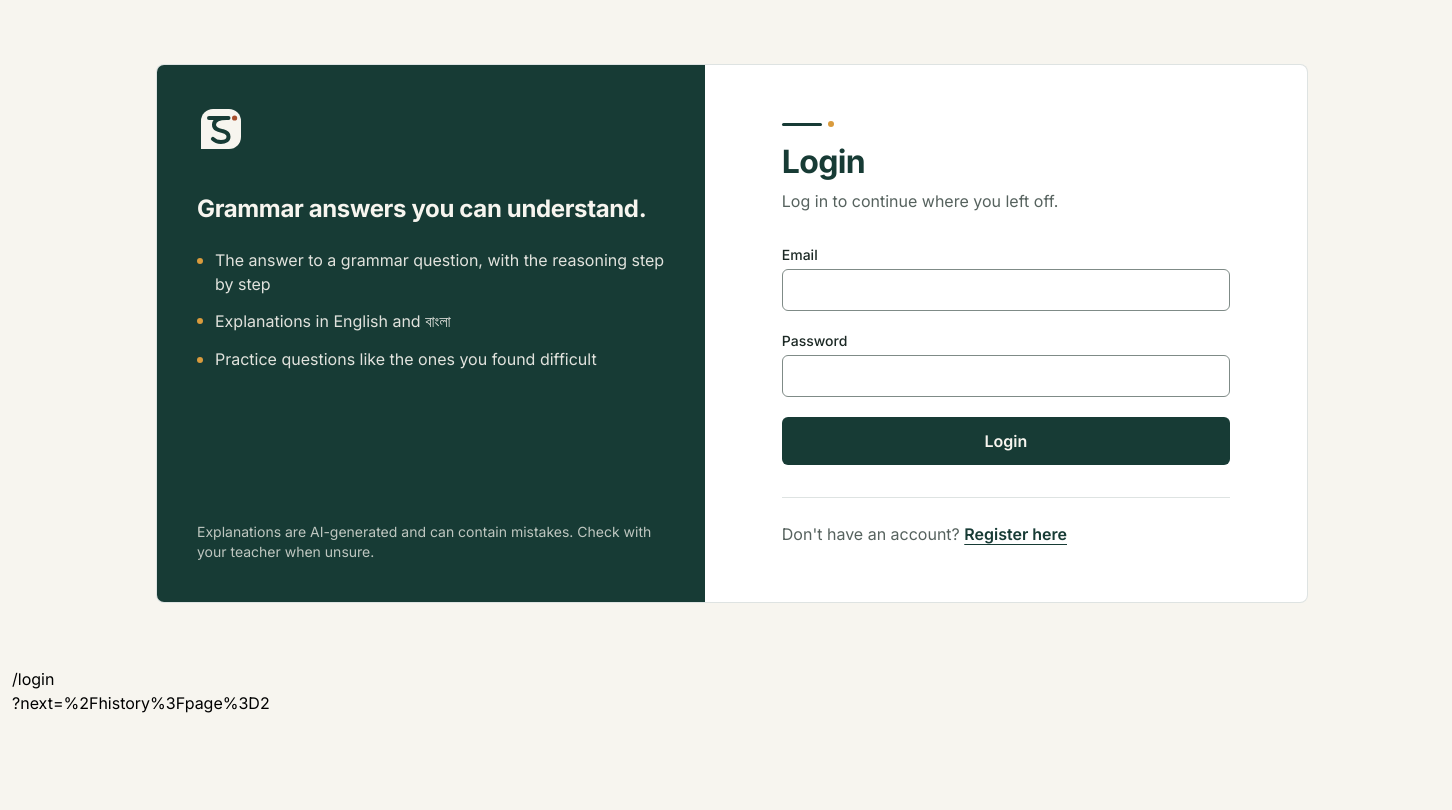
LoginForm › returns to the page that sent the student to login
This screenshot has width=1452, height=810.
Type "student@example.com" into the field labelled "Email". click: {"x": 1006, "y": 290}
box: x1=782 y1=269 x2=1230 y2=311
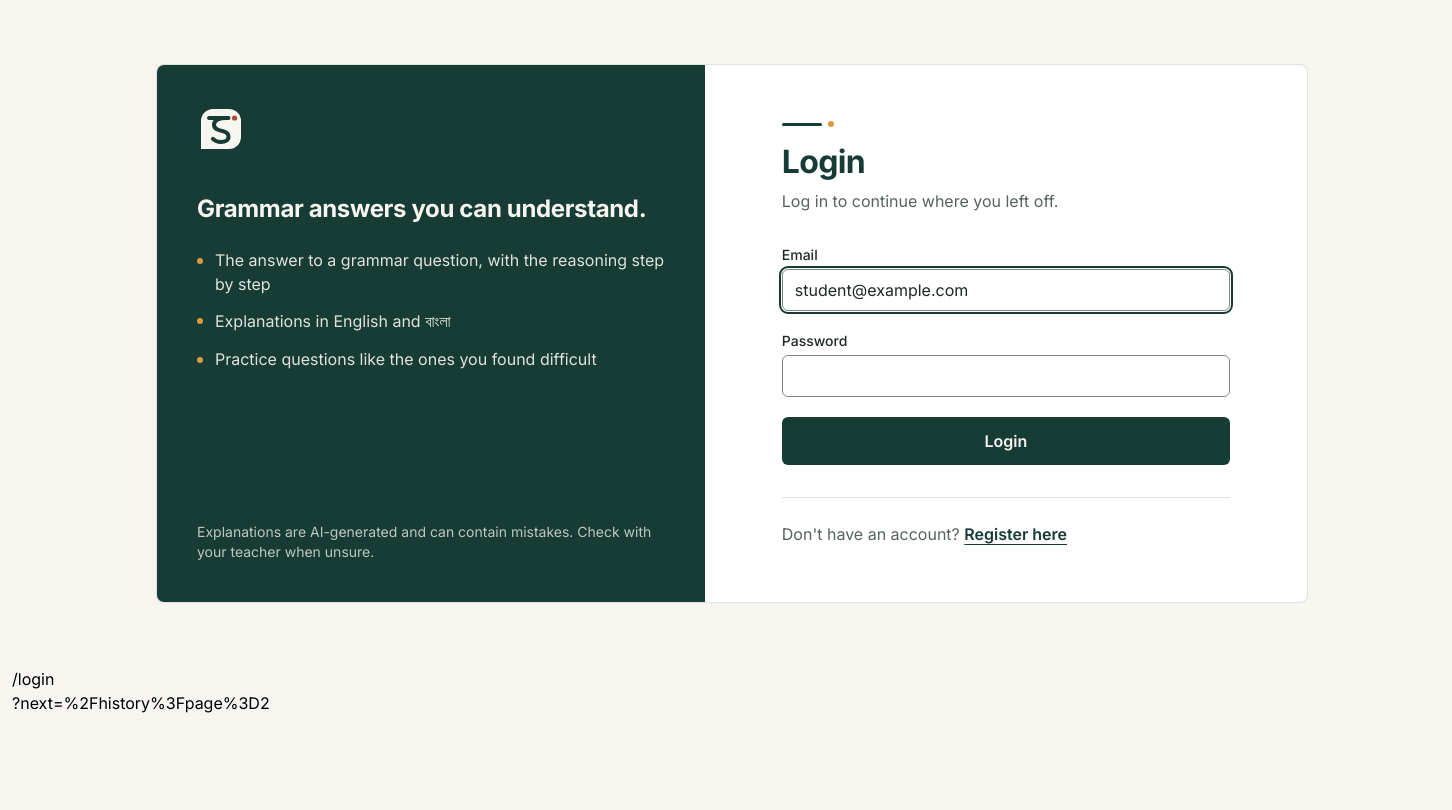
Type "secret123" into the password field labelled "Password". click: {"x": 1006, "y": 376}
box: x1=782 y1=355 x2=1230 y2=397
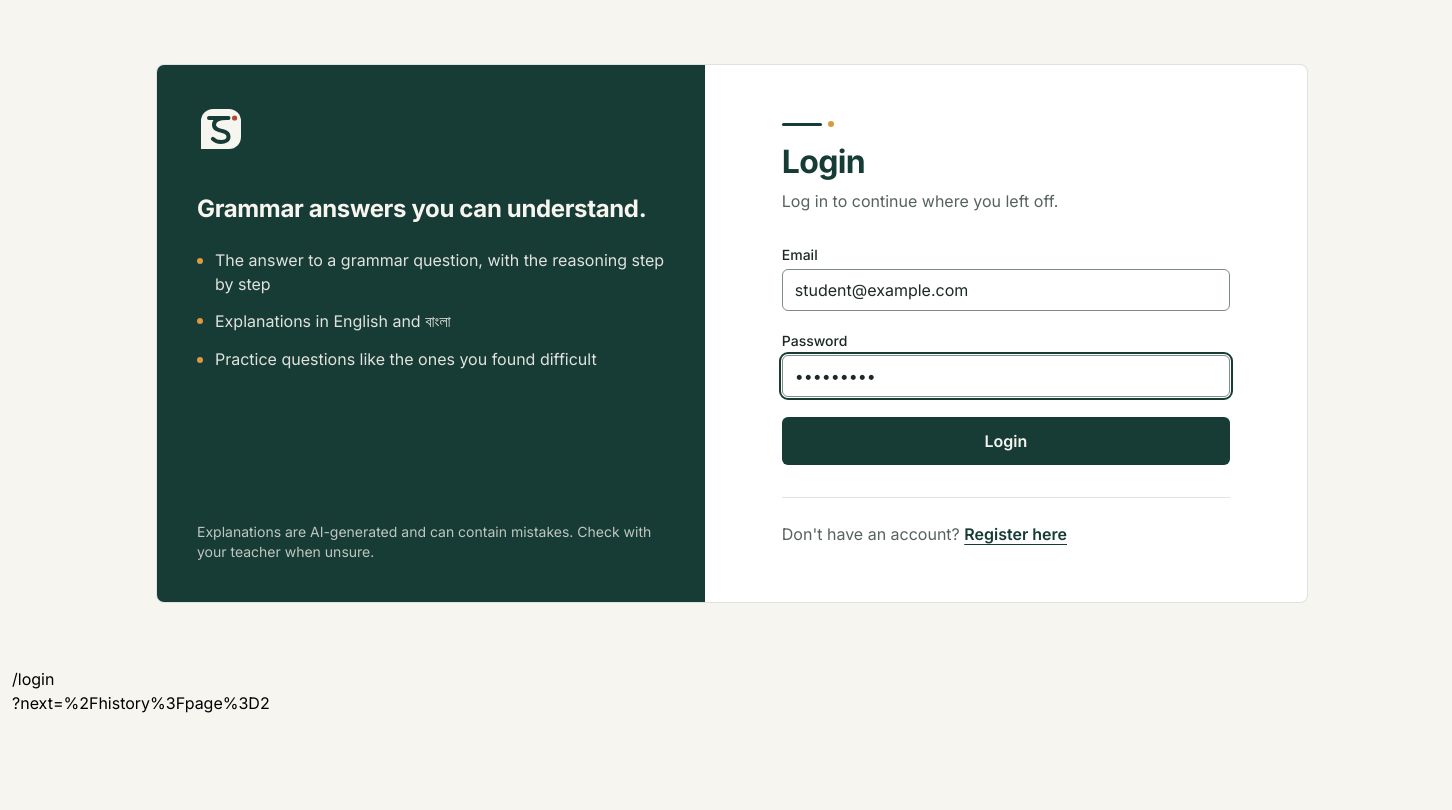
Click the button "Login". click: {"x": 1006, "y": 441}
box: x1=782 y1=417 x2=1230 y2=465
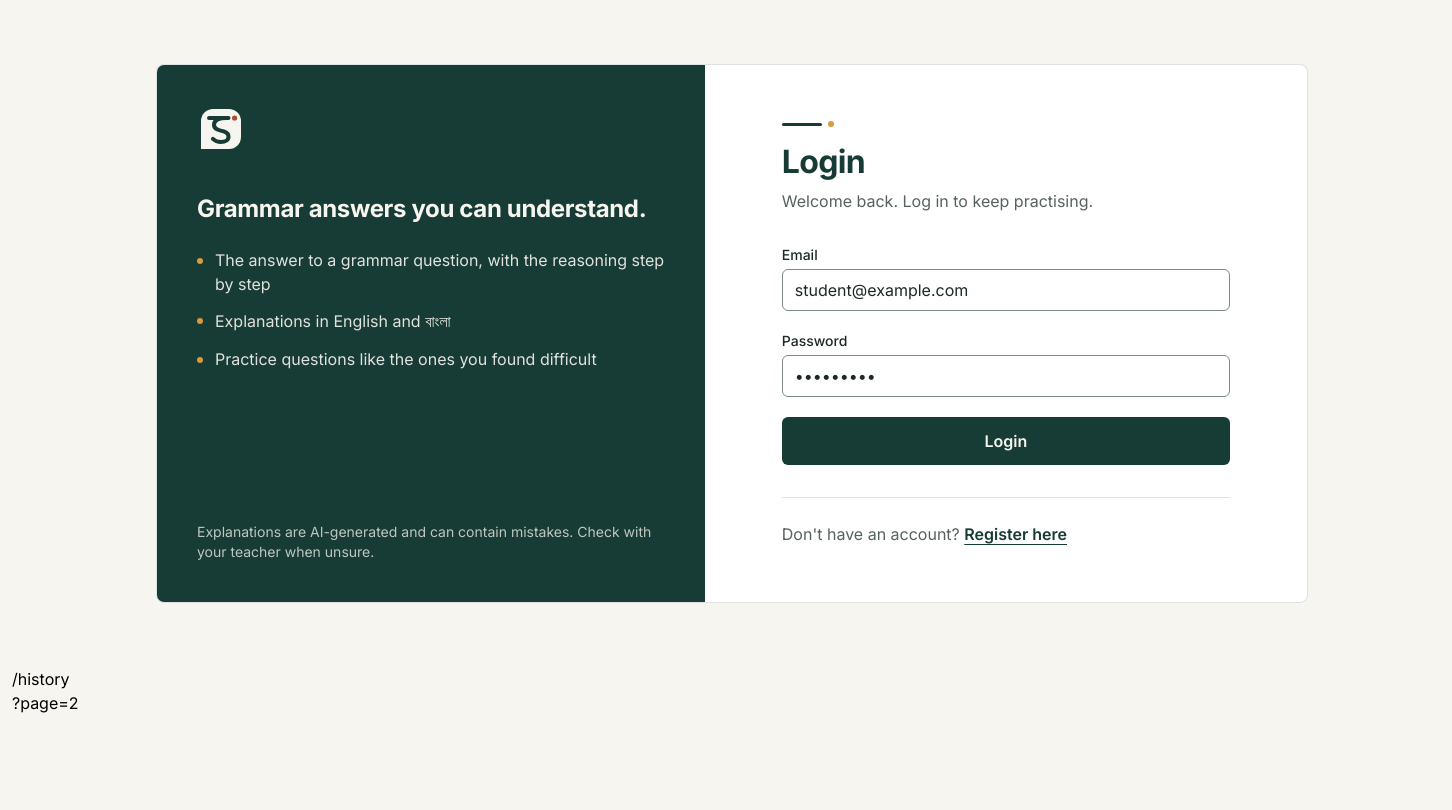
expect the text with test id "location" reads "/history": met, box x1=12 y1=669 x2=70 y2=689
